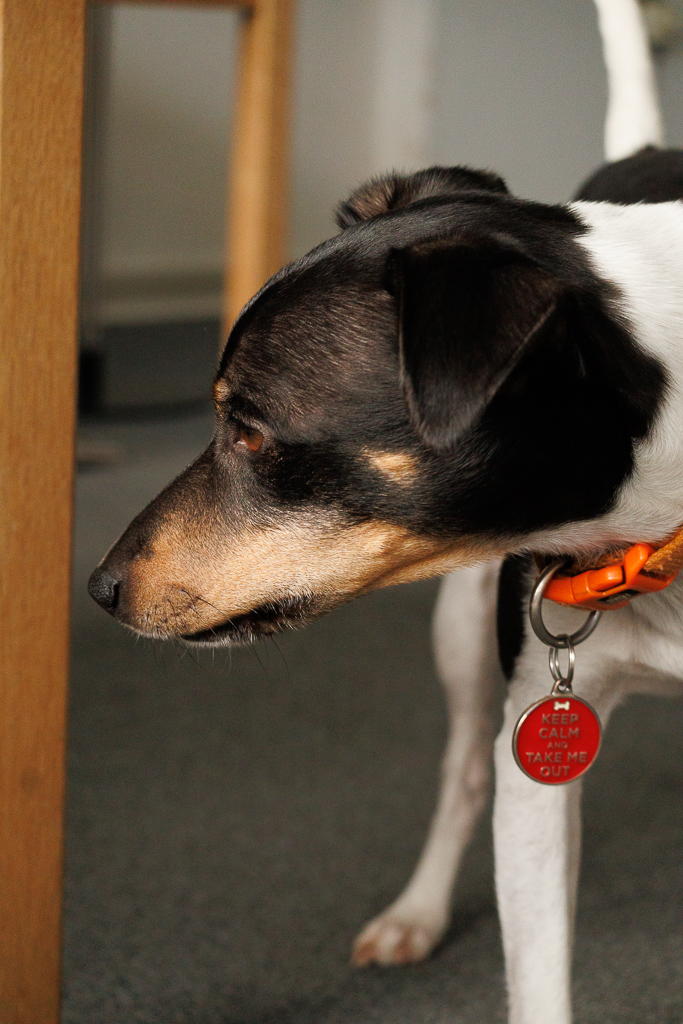Dog: (77, 0, 683, 1024)
